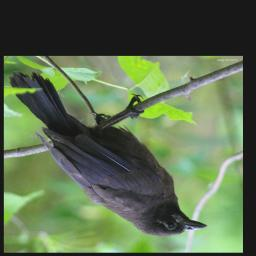Crow: (7, 70, 207, 238)
